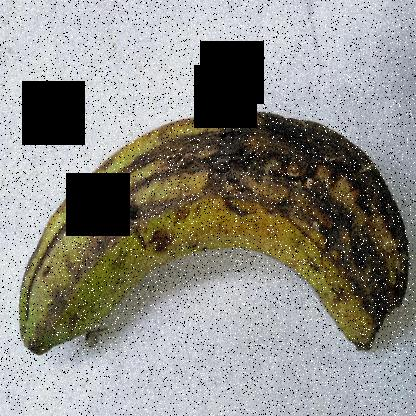rotten: (258, 75, 416, 369), (62, 101, 280, 224)
